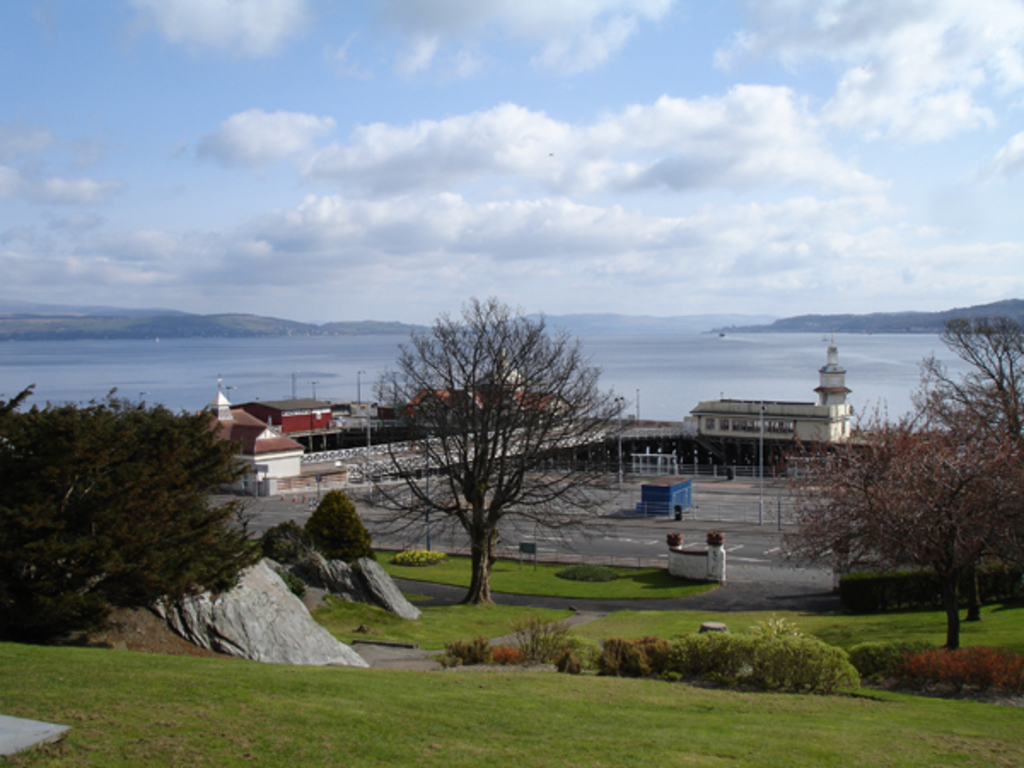Tree: (346, 288, 640, 600), (0, 384, 266, 646), (773, 395, 1022, 645), (899, 305, 1022, 621), (303, 489, 378, 559)
